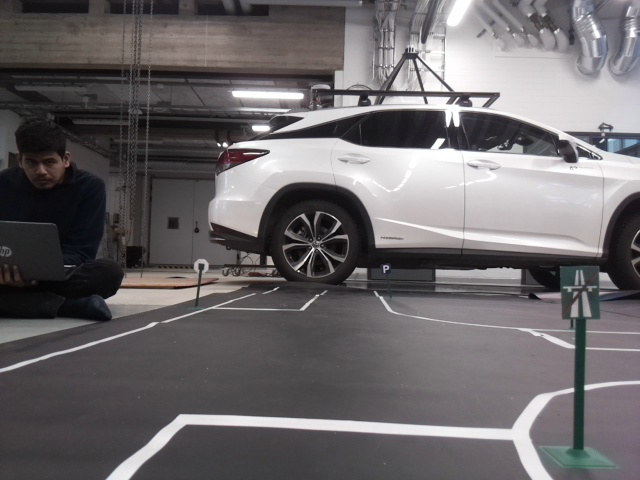HighwayExit: (560, 266, 598, 317)
